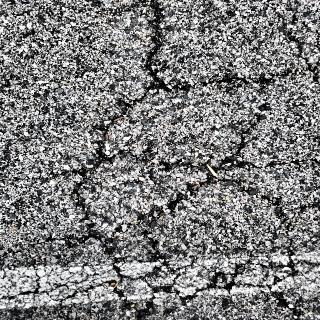alligator-crack: (60, 2, 315, 318)
